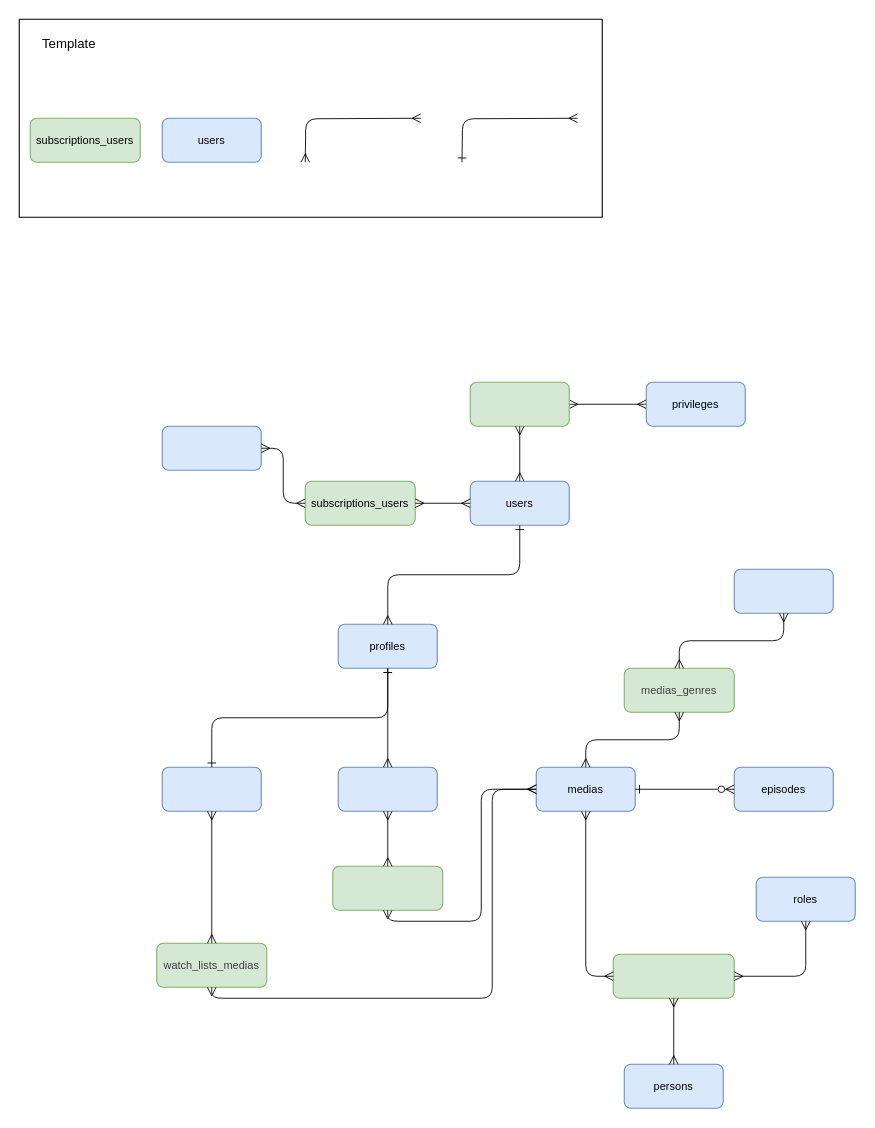
Image size: 875x1128. Some labels were removed from this diagram. Here are the shapes that lost their labels. From the top down, the box of each, then its label:
(469, 381, 569, 426): users_privileges
(161, 425, 261, 470): subscriptions
(733, 568, 833, 613): genres
(161, 766, 261, 811): watch_lists
(337, 766, 437, 811): reviews
(332, 865, 443, 910): medias_reviews
(612, 953, 734, 998): medias_persons_roles
